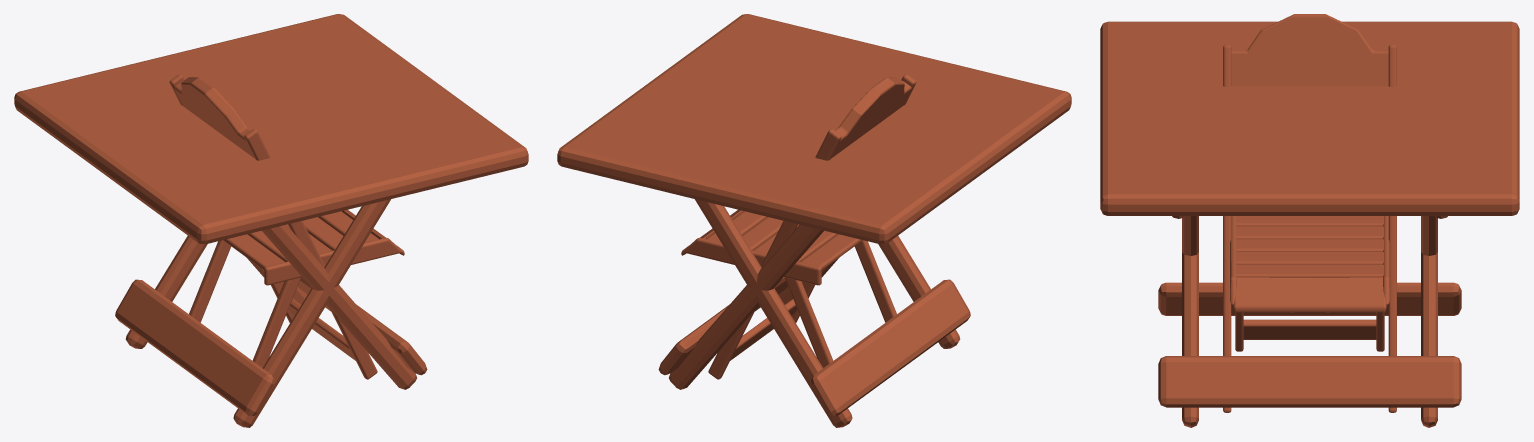
The model's file is cadeiraEMesa.fbx.
3 renders of one model, left to right at view 1: azimuth 30°, elevation 25°; view 2: azimuth 150°, elevation 25°; view 3: azimuth 270°, elevation 25°, orthographic. The views are drawn at different scales.
Parts seen in each view (by area): view 1: Meza, Cadeira; view 2: Meza, Cadeira; view 3: Meza, Cadeira.
Part boxes in pixels (<box>): Meza: <box>14,14,528,427</box>; Cadeira: <box>169,74,404,379</box>; Meza: <box>557,14,1071,427</box>; Cadeira: <box>681,74,916,379</box>; Meza: <box>1100,21,1519,427</box>; Cadeira: <box>1223,14,1396,412</box>.
Bounding box in the file's own units: 131 × 115 × 130.
